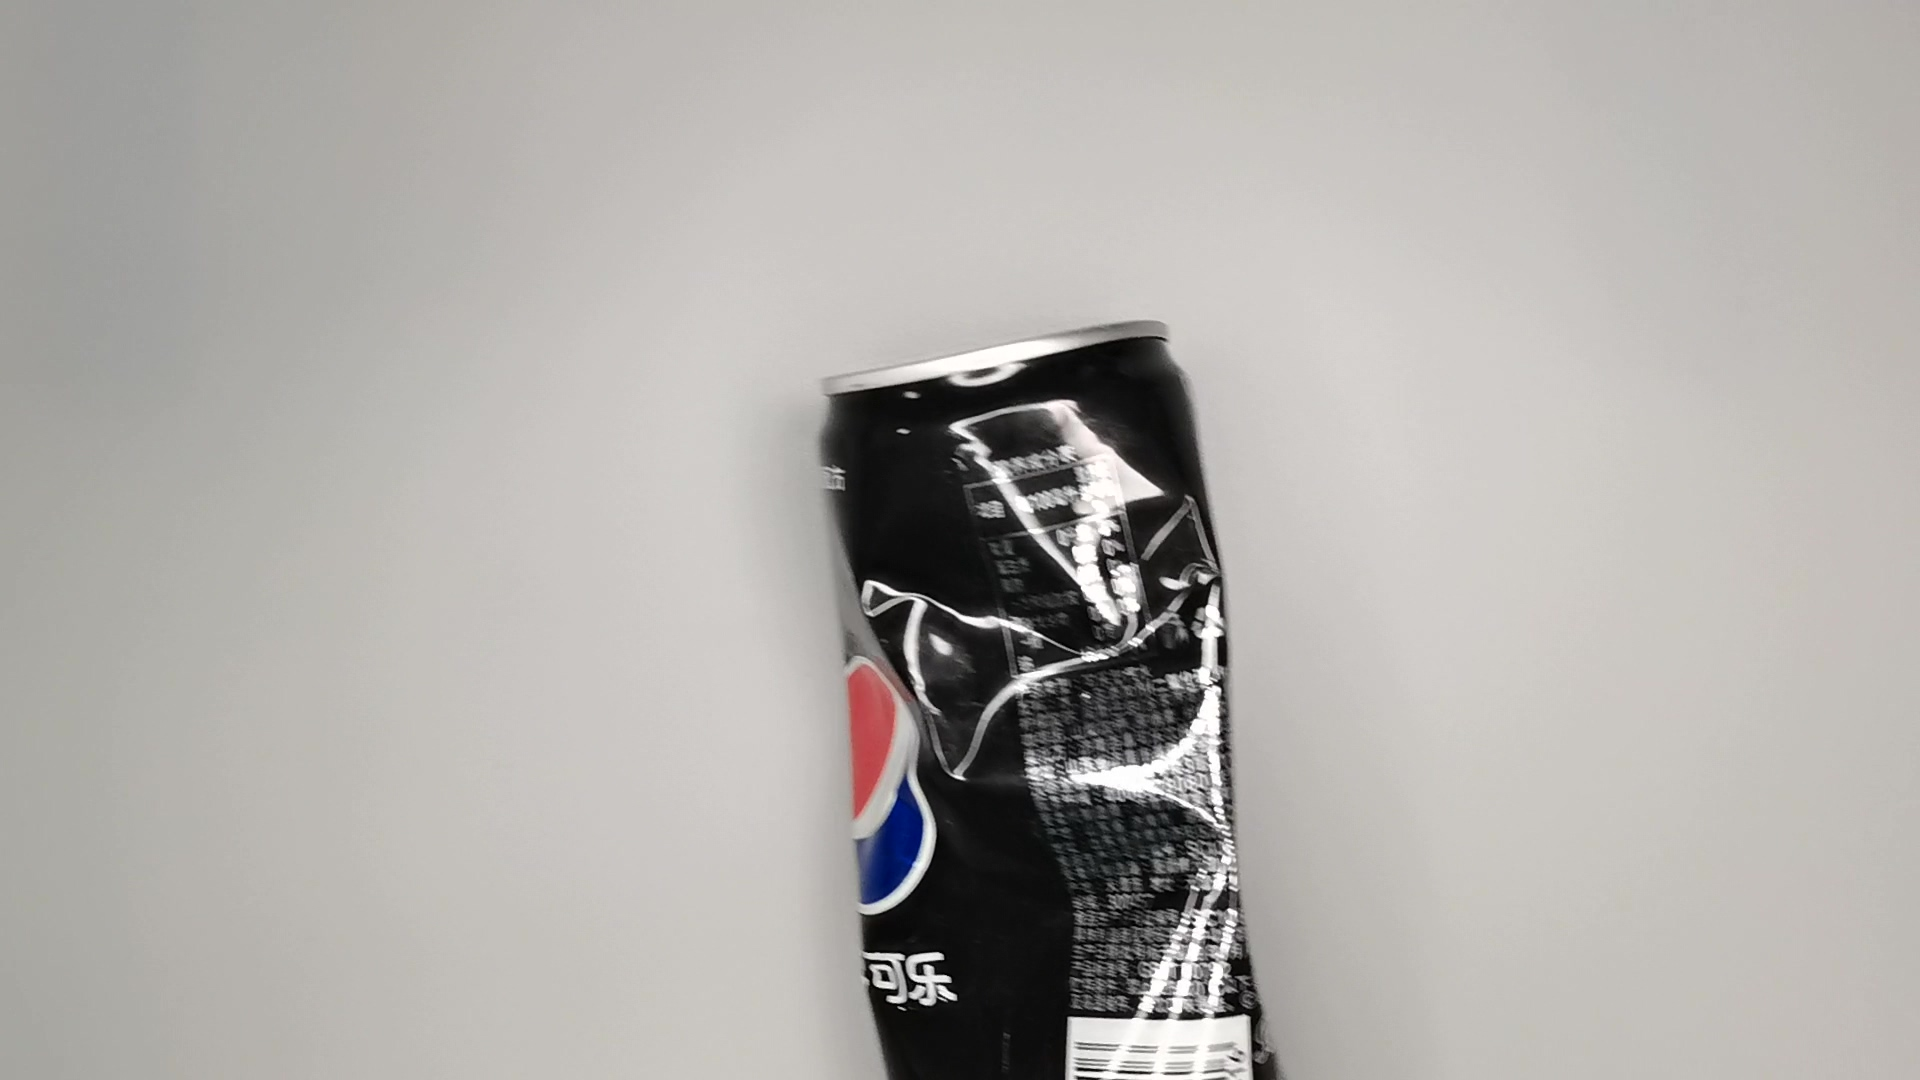can: (806, 313, 1302, 1080)
